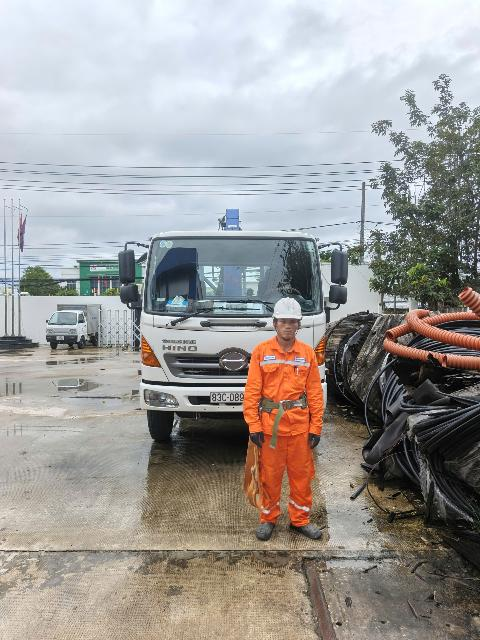gloves: (302, 423, 327, 456), (240, 425, 266, 451)
harness: (250, 389, 315, 415)
helmet: (257, 298, 315, 331)
shoes: (287, 505, 338, 548), (249, 506, 283, 549)
